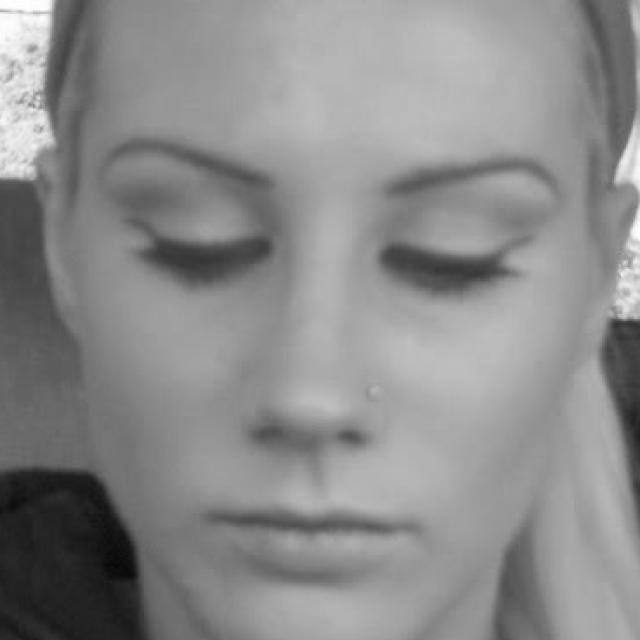real: (56, 34, 598, 576), (145, 199, 547, 313)
